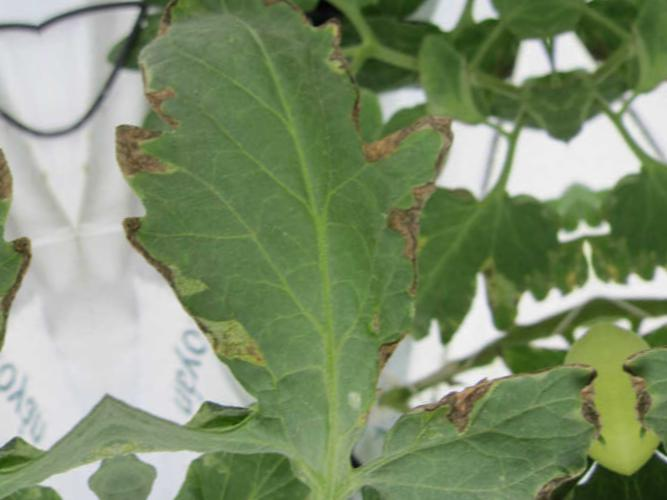Tomato leaf bacterial spot: (72, 0, 506, 483), (320, 345, 630, 500)
